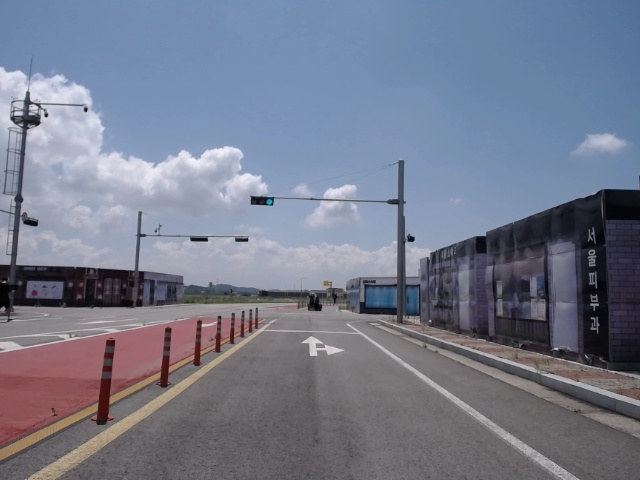green_3: (251, 197, 273, 206)
